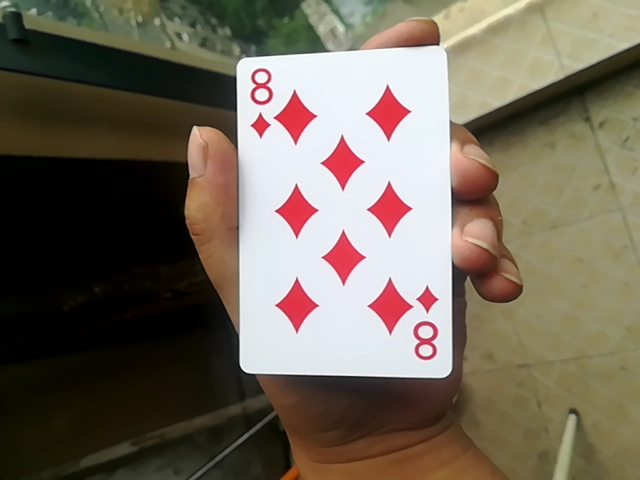fk 8: (234, 39, 456, 381)
